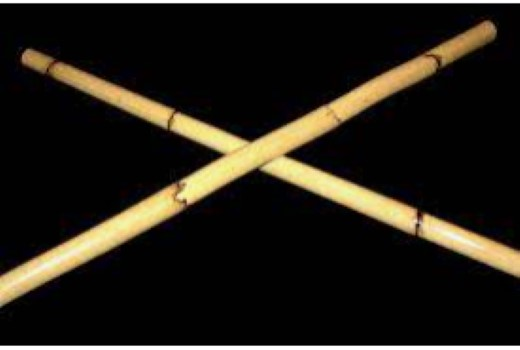baston_e: (3, 24, 480, 312), (30, 49, 512, 279)
baston_v: (13, 44, 46, 71), (477, 13, 503, 45)
